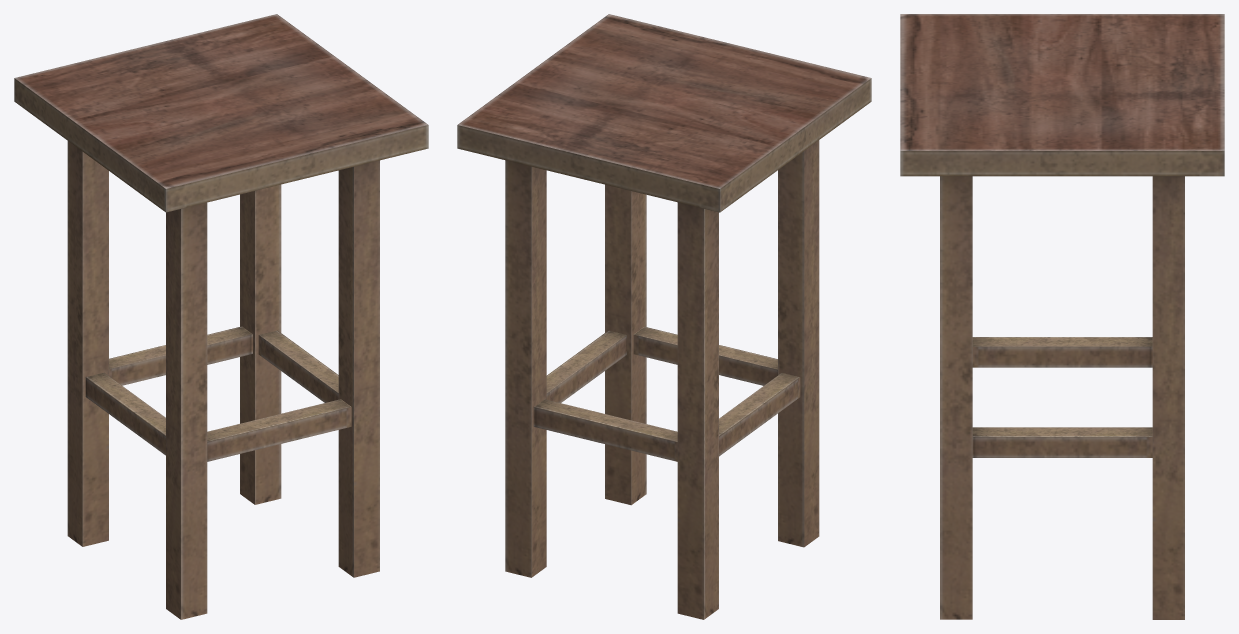
Rendered from stool.FBX.
3 views of the same model, side by side, from view 1: azimuth 30°, elevation 25°; view 2: azimuth 150°, elevation 25°; view 3: azimuth 270°, elevation 25° (orthographic). The views are drawn at different scales.
Visible parts, largest first — view 1: stool; view 2: stool; view 3: stool.
Boxes of the visible parts, x1,y1,x2,y2 form: stool: (14,14,428,619); stool: (457,14,871,619); stool: (900,14,1224,619).
Size of what is drawn, in the model's own units: 28.44 by 46.87 by 28.44.
